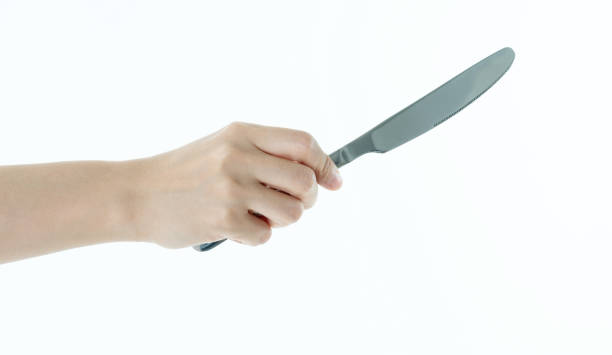knife: (191, 46, 517, 255)
